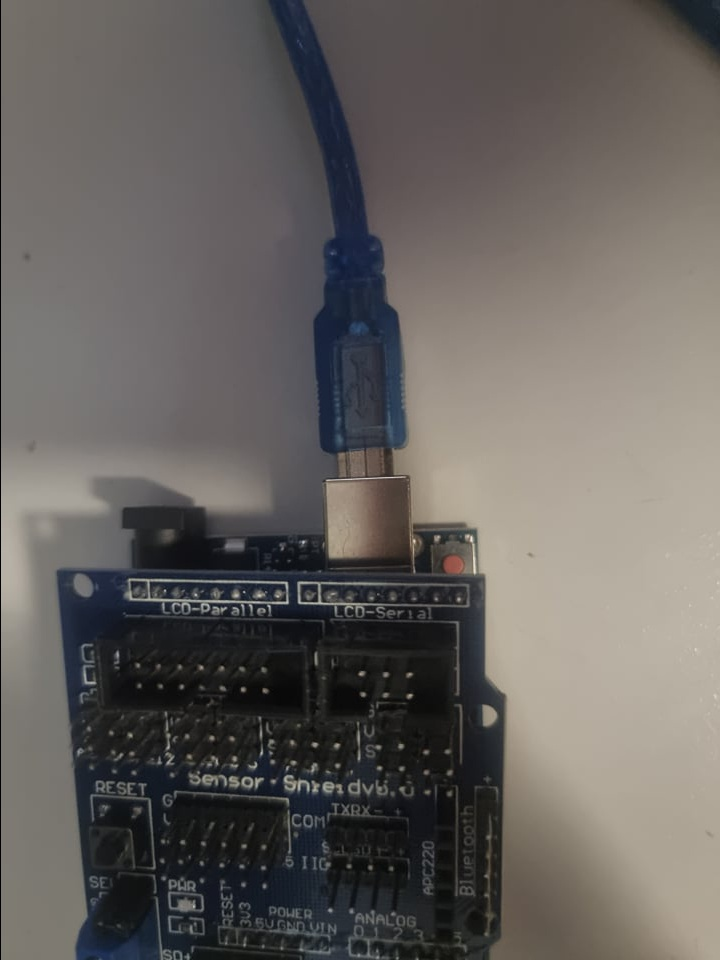5V EXPANSION: (66, 573, 517, 960)
UNO R3: (53, 473, 495, 570)
